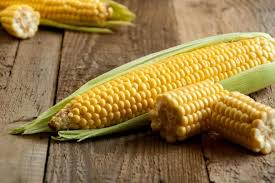milho: (45, 47, 272, 152)
